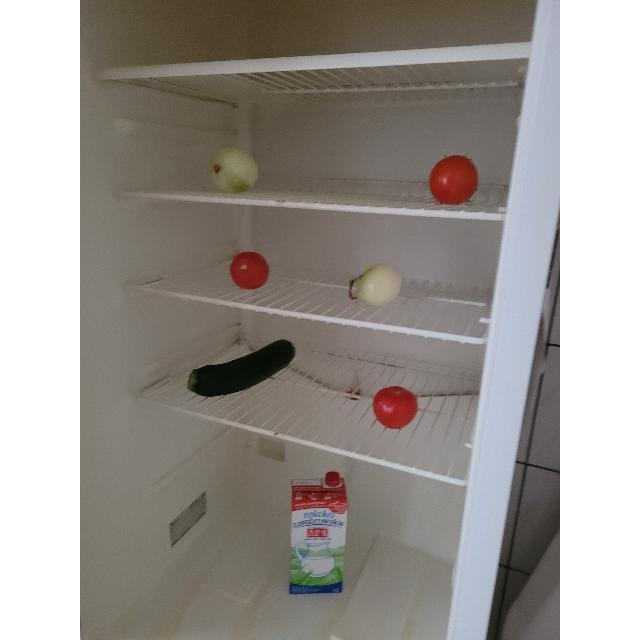milk: (288, 471, 348, 594)
onion: (208, 144, 260, 194), (351, 264, 404, 306)
tomato: (428, 152, 479, 205), (372, 384, 418, 430), (230, 251, 270, 289)
zucchini: (187, 340, 296, 394)
